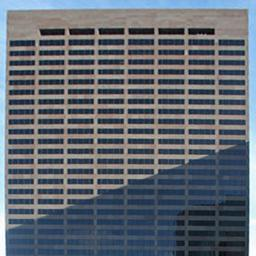building: (5, 5, 249, 256)
